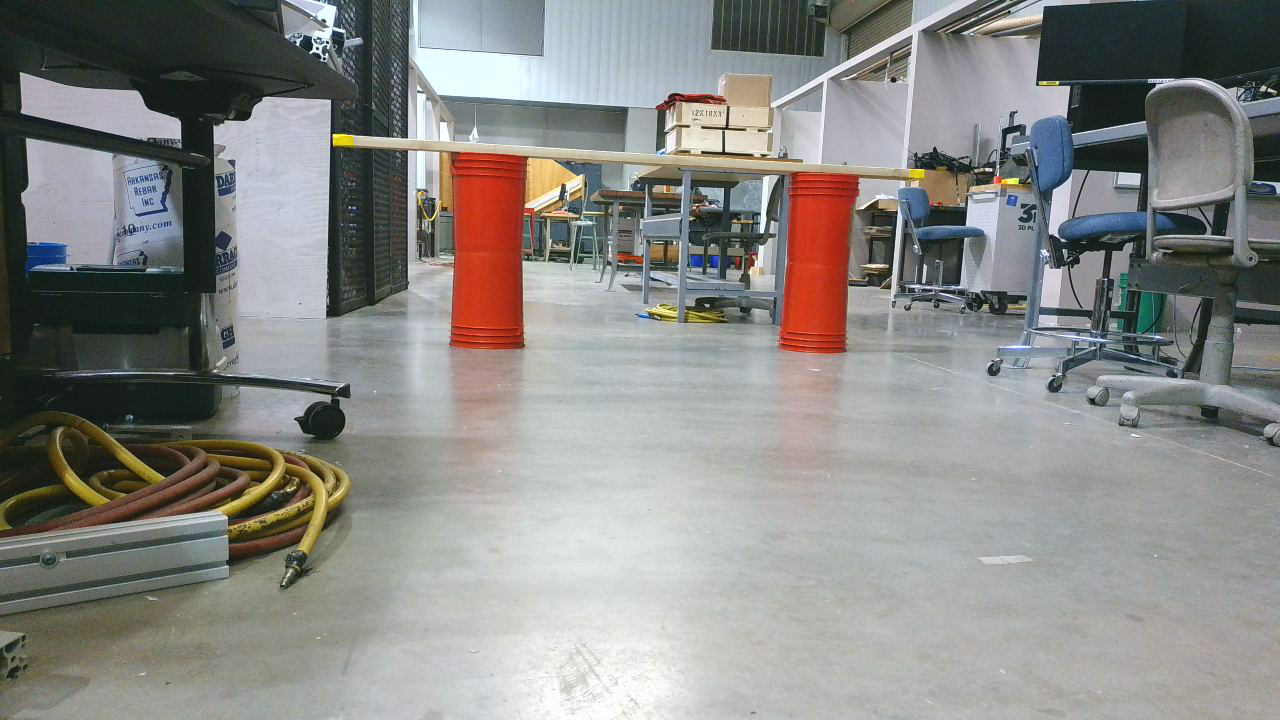red_bucket_arch: (332, 136, 940, 355)
